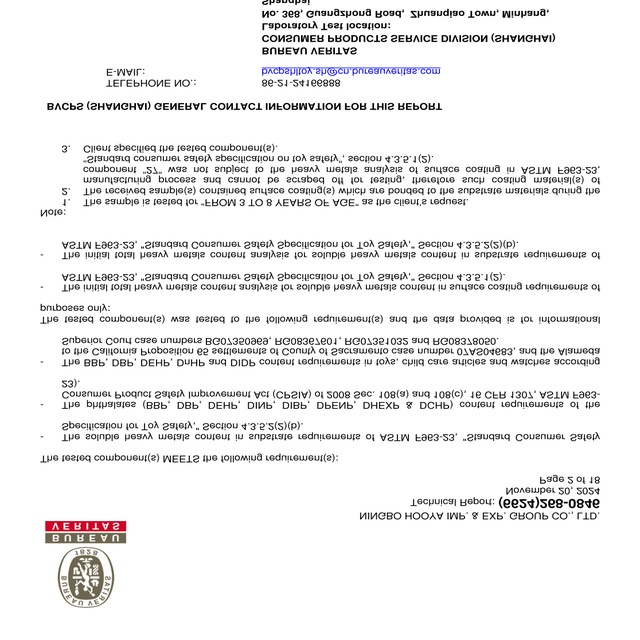bureau_veritas: (39, 518, 130, 612)
